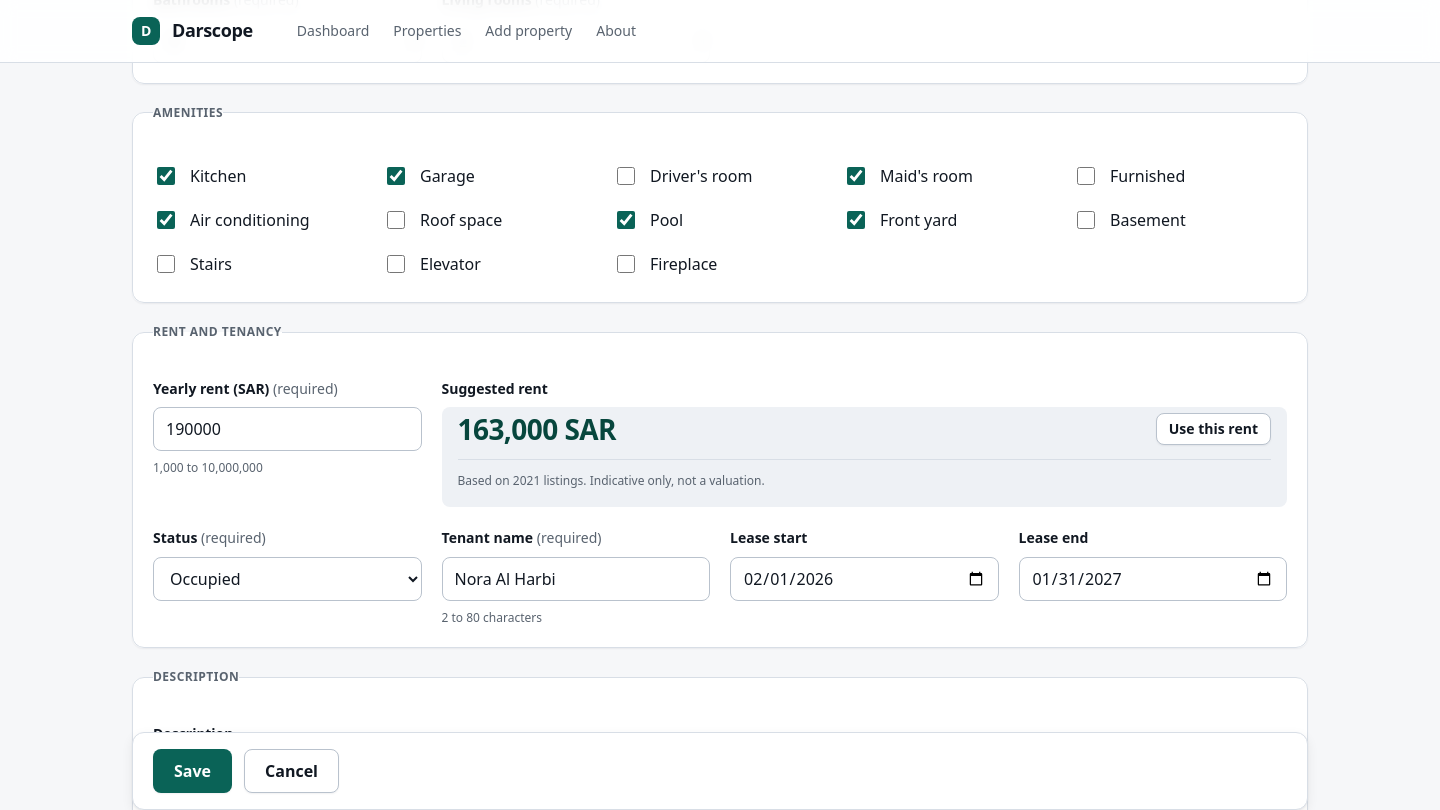
Scenario: PropertyFormPage: AC-05 update a property › stores the change, keeps the ID and created date, and moves Last updated on
(page scrolled)
Step 1. Replace the text in the field labelled "Yearly rent (SAR) (required)" with "95000" → (287, 429), box [153, 407, 422, 451]
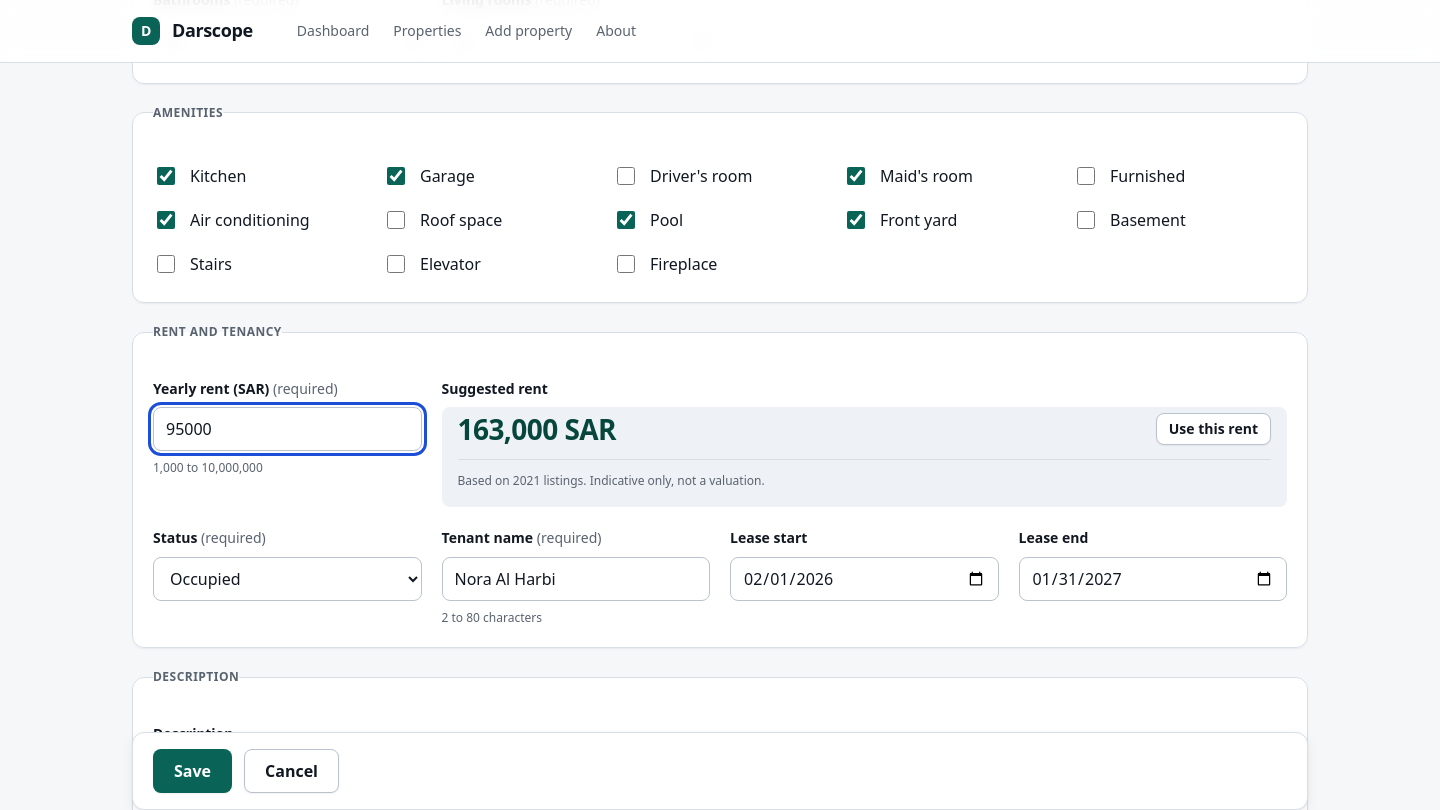
Step 2. Click the button "Save" → (192, 771), box [153, 749, 232, 793]
(page scrolled)
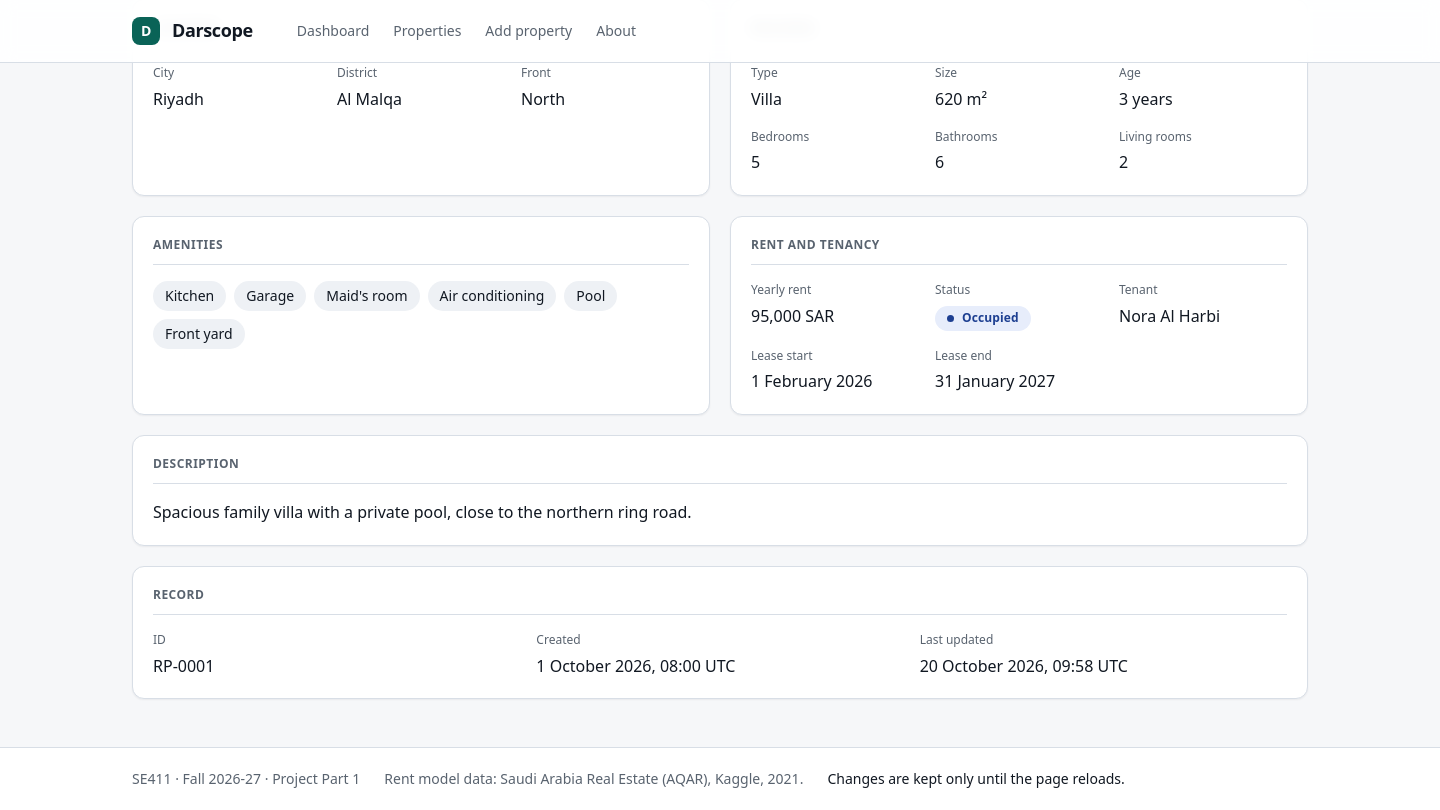
Now the text "95,000 SAR" is shown, box [751, 305, 834, 327]
Now the text "RP-0001" is shown, box [153, 654, 214, 676]
